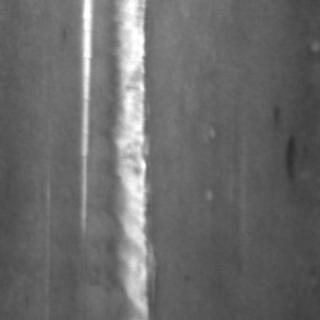inclusion: (280, 130, 300, 176)
scratches: (104, 0, 150, 316), (74, 0, 94, 238)
